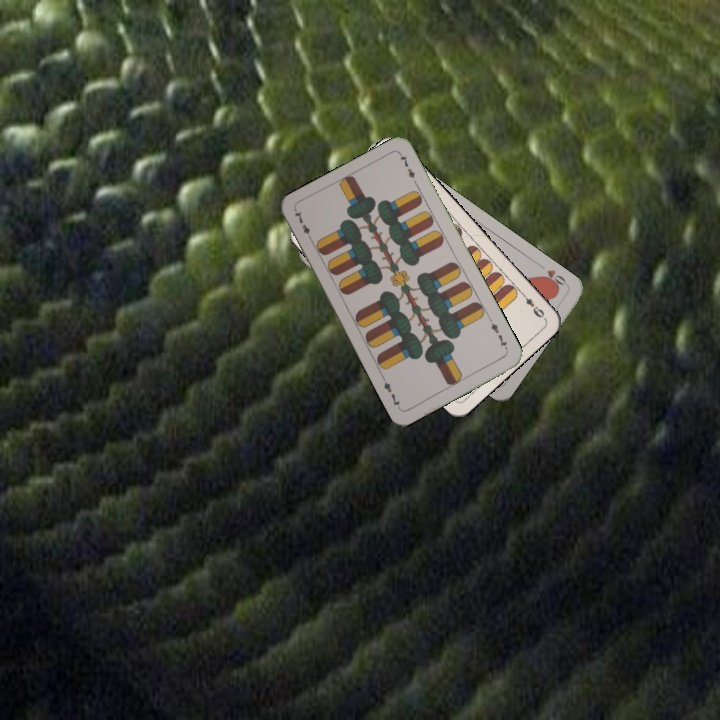E7: (290, 207, 316, 244), (486, 316, 511, 354)
E9: (517, 288, 547, 321)
HO: (537, 265, 569, 291)
